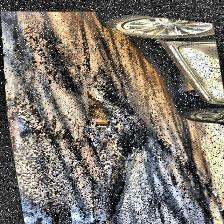pothole: (82, 81, 134, 159)
